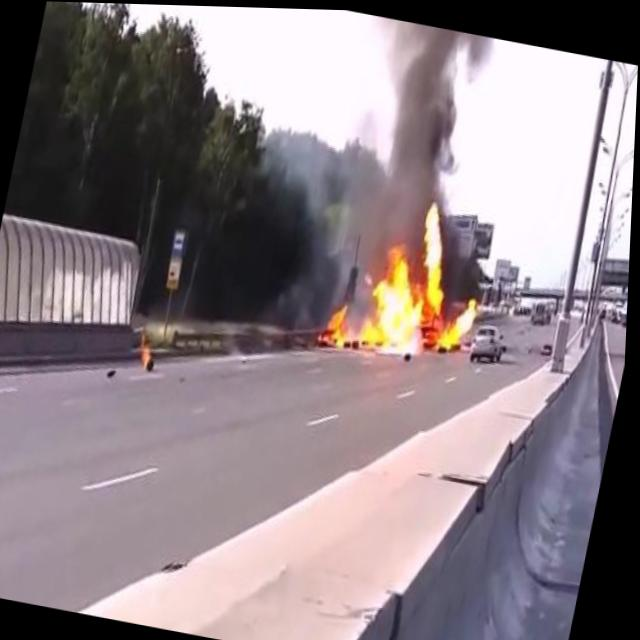fire: (318, 182, 509, 378), (136, 328, 159, 366)
